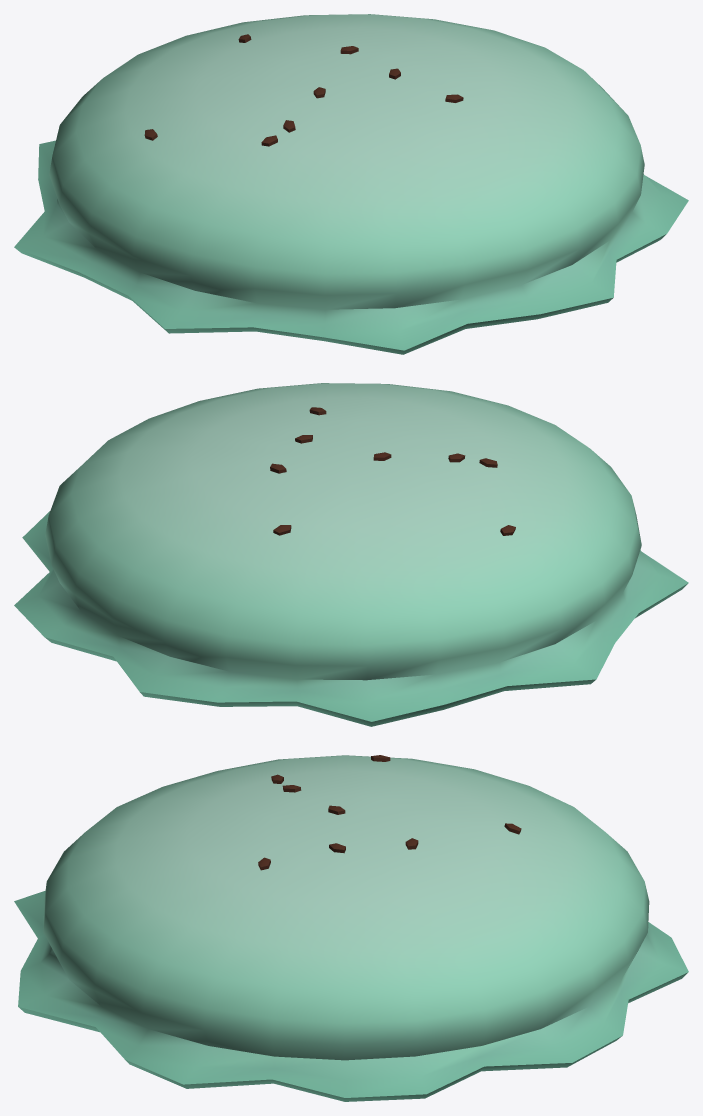
File: scoop_mint.glb
The picture shows the model from 3 angles, top to bottom: view 1: azimuth 30°, elevation 25°; view 2: azimuth 150°, elevation 25°; view 3: azimuth 270°, elevation 25°; orthographic projection. The views are drawn at different scales.
Parts seen in each view (by area): view 1: body; view 2: body; view 3: body.
Part boxes in pixels (left/top/right/bottom): body: left=14, top=14, right=688, bottom=354; body: left=14, top=383, right=688, bottom=726; body: left=14, top=755, right=688, bottom=1101.
Size of the model in its own units: 0.9226 by 0.22 by 0.9074.
